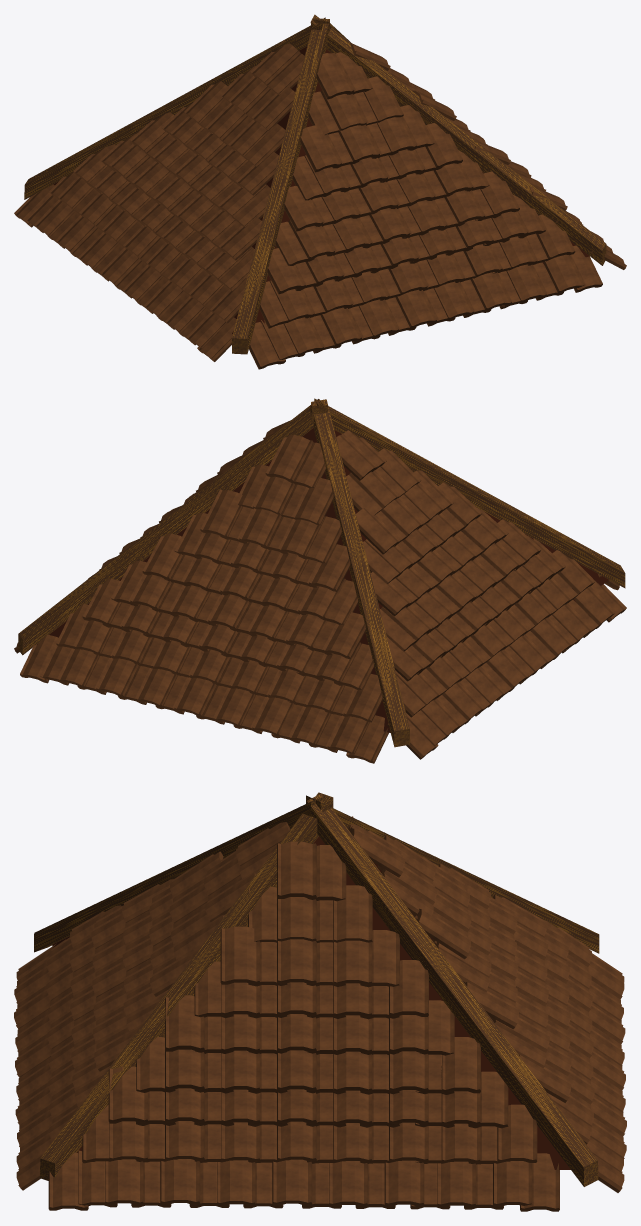
The model's file is Roof Square Tall.fbx.
3 views of the same model, one above another, from view 1: azimuth 30°, elevation 25°; view 2: azimuth 150°, elevation 25°; view 3: azimuth 270°, elevation 25° (orthographic). The views are drawn at different scales.
Visible parts, largest first — view 1: Wall beam.010; view 2: Wall beam.010; view 3: Wall beam.010.
Part boxes in pixels (x1,y1,x2,y2): Wall beam.010: (14, 14, 626, 369); Wall beam.010: (14, 398, 626, 763); Wall beam.010: (14, 792, 626, 1211).
Size of the model in its own units: 1442 by 1442 by 750.
